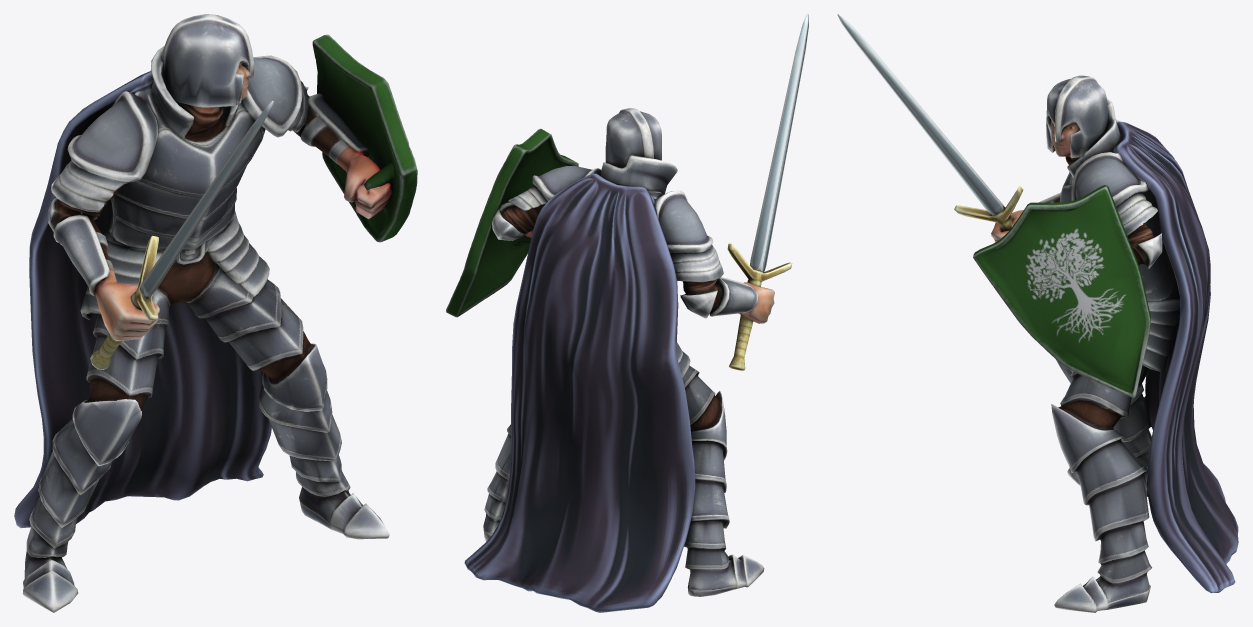
The model's file is MZ4250 - Human Fighter Male with Green Tree Shield.glb.
The picture shows the model from 3 angles, left to right: view 1: azimuth 30°, elevation 25°; view 2: azimuth 150°, elevation 25°; view 3: azimuth 270°, elevation 25°; orthographic projection. The views are drawn at different scales.
Visible parts, largest first — view 1: body_low.001, shield_low.001, head_low.001, sword_low.001; view 2: body_low.001, shield_low.001, sword_low.001, head_low.001; view 3: body_low.001, shield_low.001, sword_low.001, head_low.001.
Boxes of the visible parts, x1,y1,x2,y2 form: body_low.001: (14,46,391,612); shield_low.001: (312,34,417,242); head_low.001: (161,14,254,107); sword_low.001: (90,100,273,369); body_low.001: (464,154,774,612); shield_low.001: (446,128,578,317); sword_low.001: (727,14,808,370); head_low.001: (605,108,661,167); body_low.001: (991,98,1238,612); shield_low.001: (973,185,1150,397); sword_low.001: (837,14,1023,231); head_low.001: (1046,75,1107,157).
Size of the model in its own units: 4.25 by 6.57 by 4.75.
Materials: 1 (1 with a texture image).
